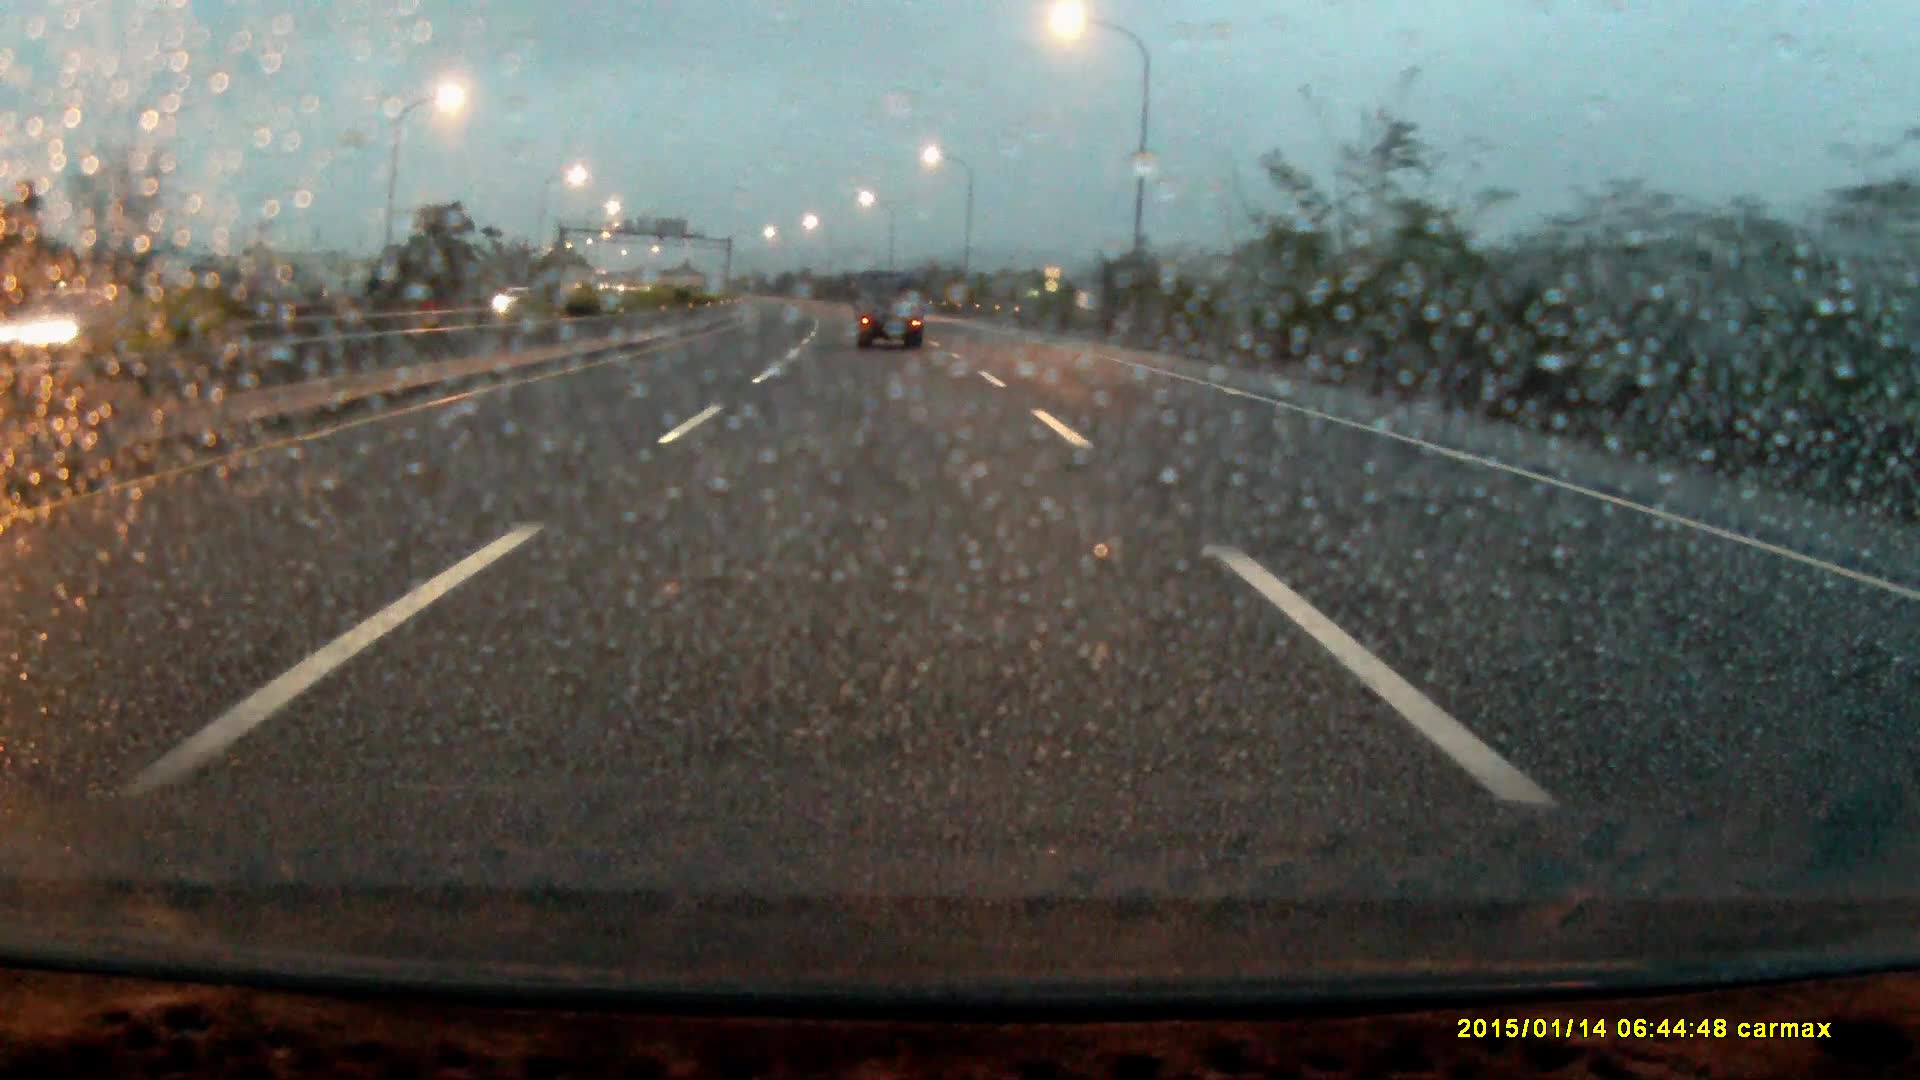vehicle: (852, 272, 924, 352), (492, 286, 555, 320)
